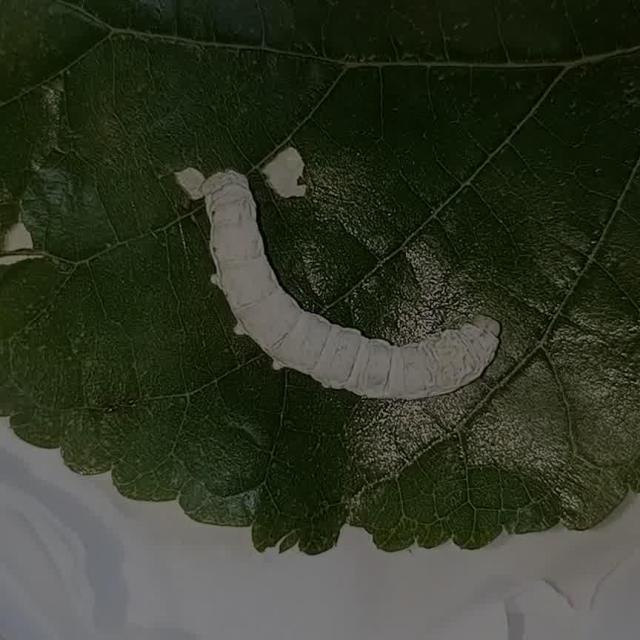Healthy: (163, 135, 547, 449)
